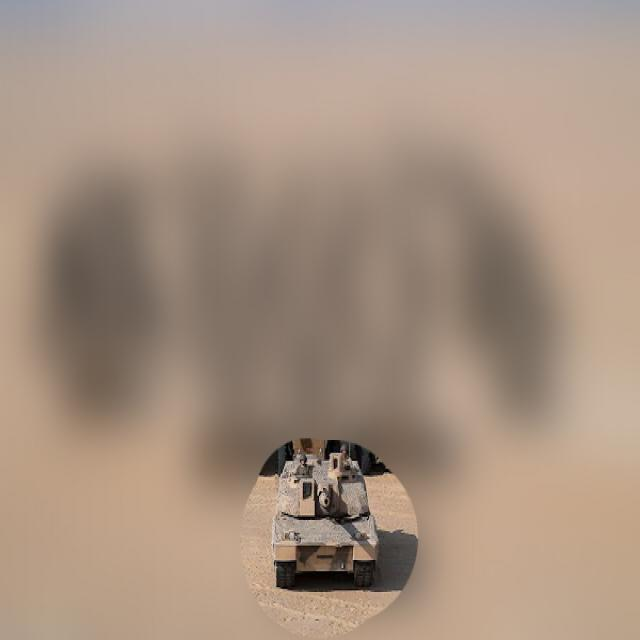tank: (270, 438, 380, 592)
